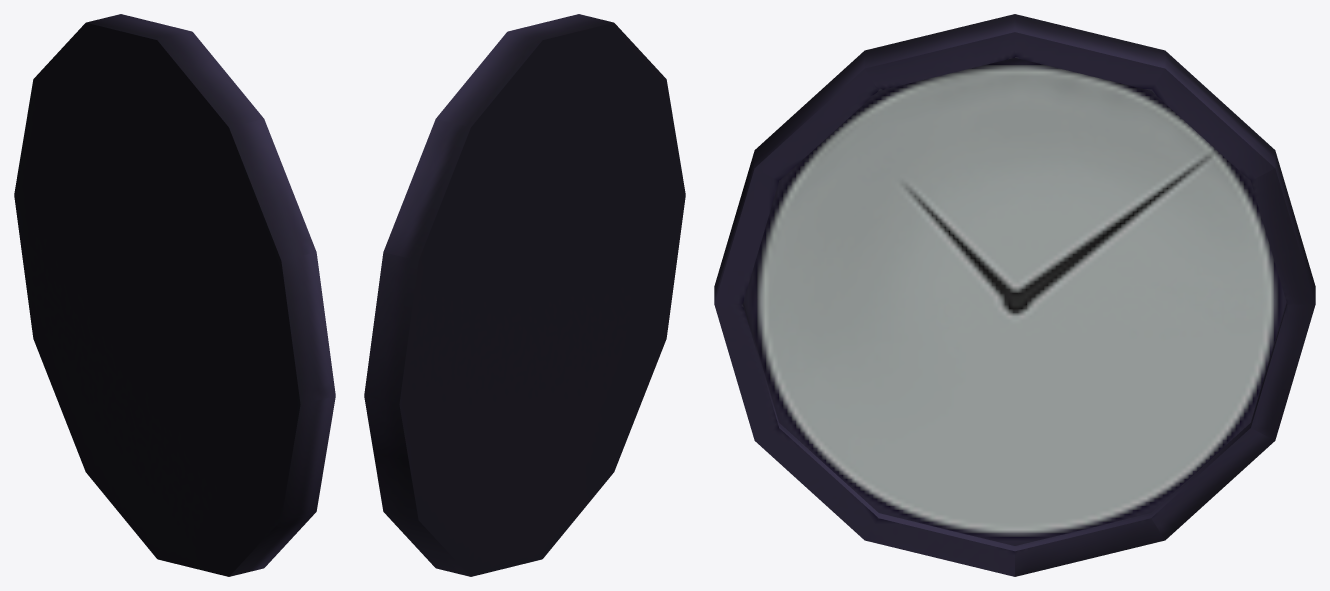
The model's file is Tx_prop_clock_8.fbx.
The picture shows the model from 3 angles, left to right: view 1: azimuth 30°, elevation 25°; view 2: azimuth 150°, elevation 25°; view 3: azimuth 270°, elevation 25°; orthographic projection. The views are drawn at different scales.
Parts seen in each view (by area): view 1: Tx_prop_clock_9; view 2: Tx_prop_clock_9; view 3: Tx_prop_clock_9.
Boxes of the visible parts, x1,y1,x2,y2 form: Tx_prop_clock_9: (14,14,335,576); Tx_prop_clock_9: (364,14,685,576); Tx_prop_clock_9: (714,14,1315,576).
Bounding box in the file's own units: 0.2458 × 3.46 × 3.46.
1 material, 1 textured.
